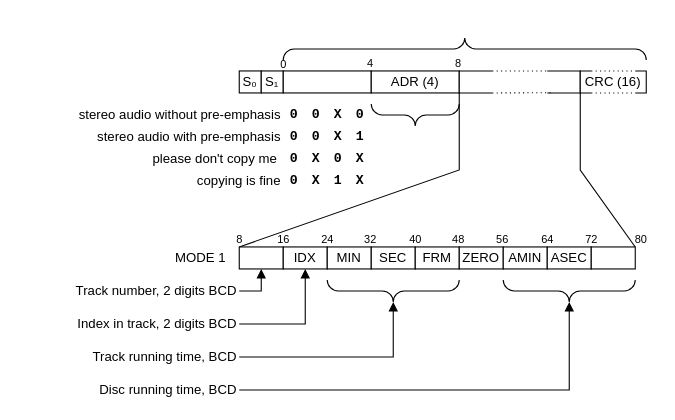
Image size: 675x420. Some labels were removed from this diagram. The centre of each missing label's shape, as x and y in pixels:
"96 bits" goes at [464,48].
"AFRM" goes at [612,257].
"CTRL (4)" goes at [326,81].
"DATA-Q (72)" goes at [519,81].
"DATA-Q mode 0 … 3" goes at [414,114].
"TNO" goes at [260,257].
